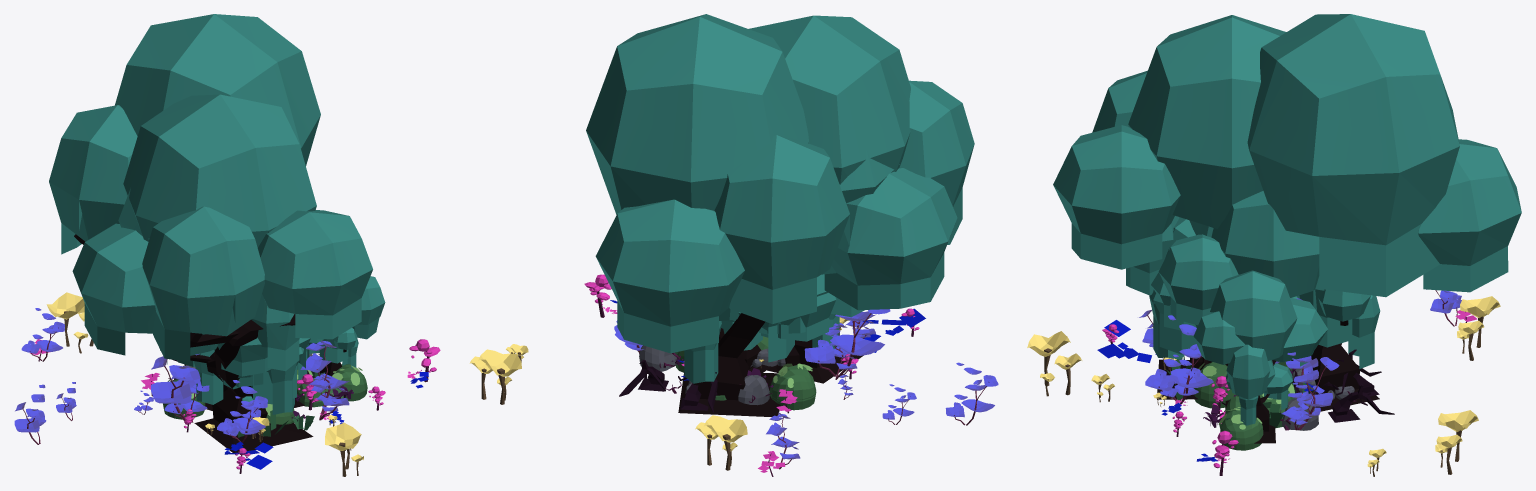
Rendered from Clusterfuk 1.fbx.
3 renders of one model, left to right at view 1: azimuth 30°, elevation 25°; view 2: azimuth 150°, elevation 25°; view 3: azimuth 270°, elevation 25°, orthographic. The views are drawn at different scales.
Parts seen in each view (by area): view 1: Cluster2.2, Cluster2.1, Cluster2.0; view 2: Cluster2.2, Cluster2.1, Cluster2.-1, Cluster2.-2, Cluster2.0; view 3: Cluster2.2, Cluster2.1, Cluster2.-2, Cluster2.-1, Cluster2.0.
Part boxes in pixels (x1,y1,x2,y2): Cluster2.2: (14, 14, 440, 476); Cluster2.1: (134, 328, 382, 468); Cluster2.0: (163, 369, 343, 436); Cluster2.2: (469, 14, 998, 476); Cluster2.1: (625, 308, 915, 411); Cluster2.-1: (639, 345, 778, 405); Cluster2.-2: (619, 353, 778, 412); Cluster2.0: (675, 350, 816, 400); Cluster2.2: (1027, 14, 1521, 476); Cluster2.1: (1107, 217, 1380, 450); Cluster2.-2: (1221, 349, 1394, 430); Cluster2.-1: (1276, 351, 1354, 430); Cluster2.0: (1166, 324, 1295, 428).
Size of what is drawn, in the model's own units: 1968 by 1697 by 1949.
